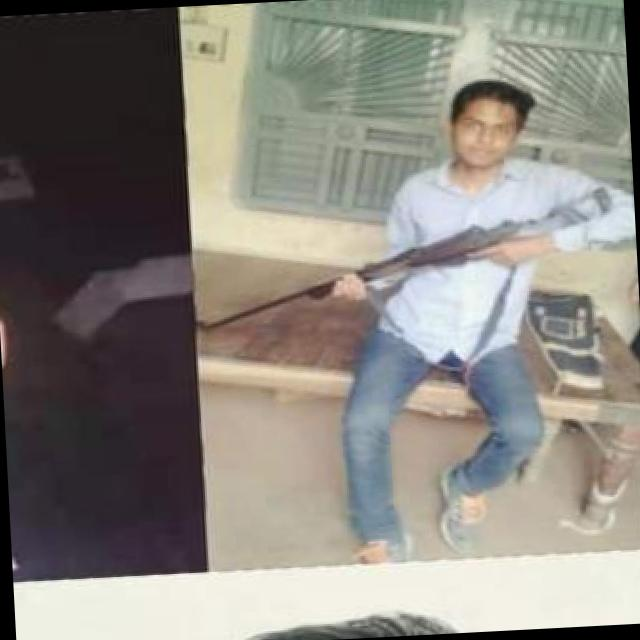Guns: (188, 198, 622, 350), (1, 330, 72, 588)
